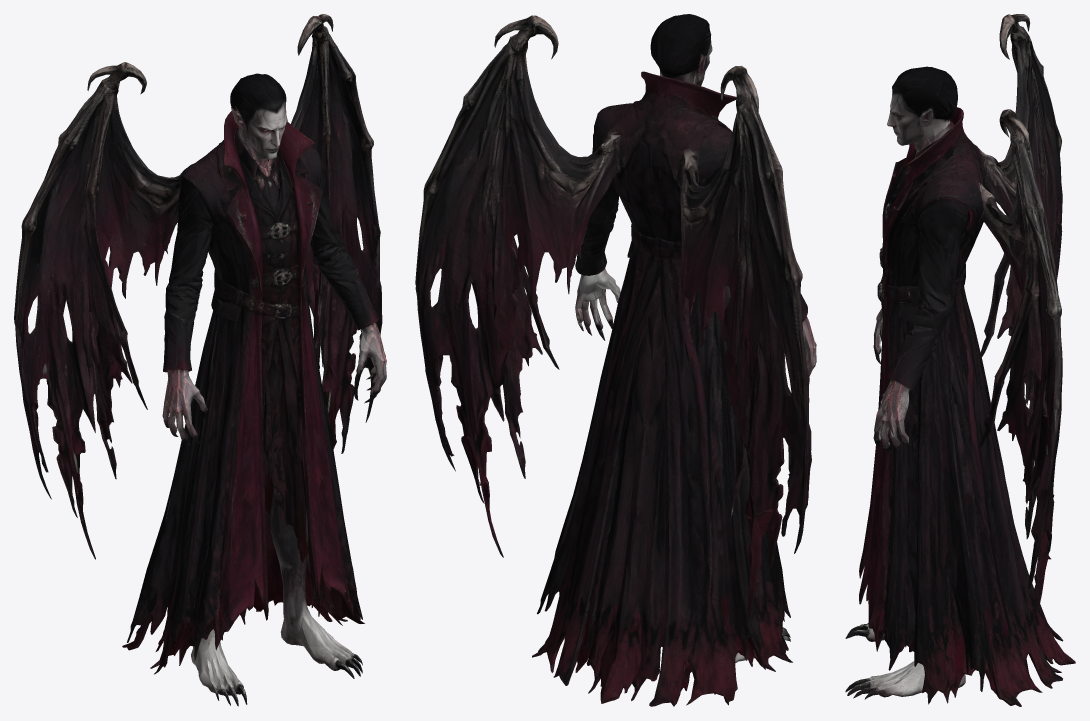
The model's file is CountClaude_mesh.glb.
The picture shows the model from 3 angles, left to right: view 1: azimuth 30°, elevation 25°; view 2: azimuth 150°, elevation 25°; view 3: azimuth 270°, elevation 25°; orthographic projection. The views are drawn at different scales.
Size of the model in its own units: 1.22 by 1.9 by 0.6565.
Materials: 1 (1 with a texture image).
